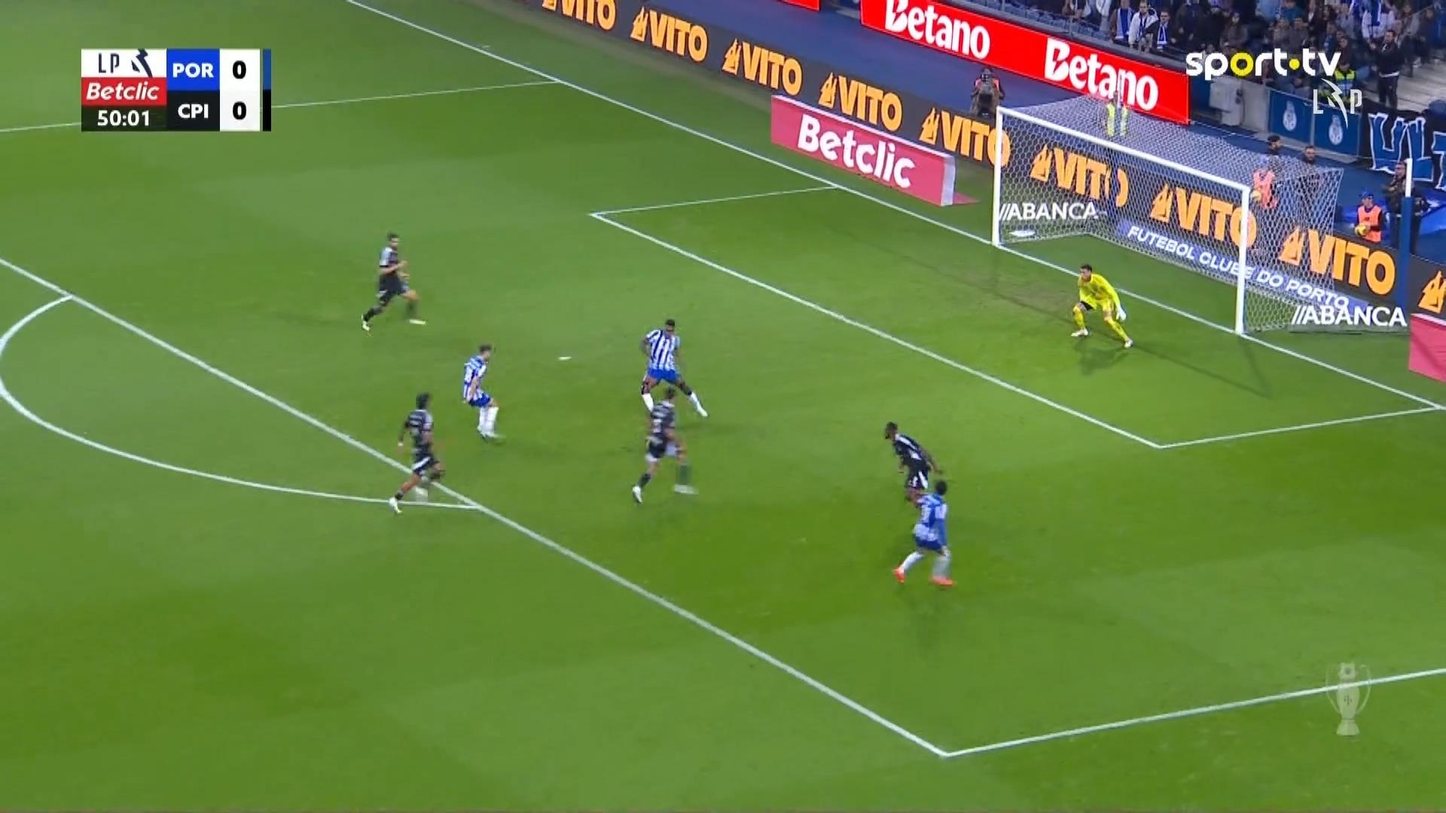goalkeeper: (1069, 263, 1133, 349)
player: (630, 386, 698, 505), (387, 391, 446, 514), (891, 477, 956, 586), (638, 318, 708, 419), (359, 231, 427, 332), (883, 420, 943, 499), (460, 343, 506, 443)
